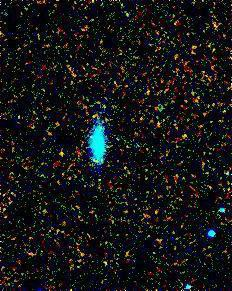star: (48, 138, 78, 168)
